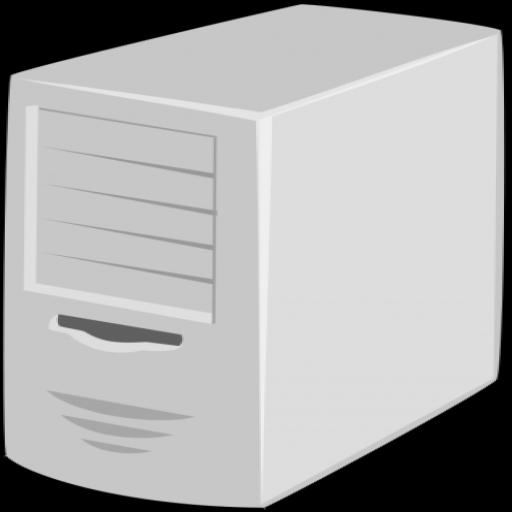Server: (0, 0, 512, 512)
